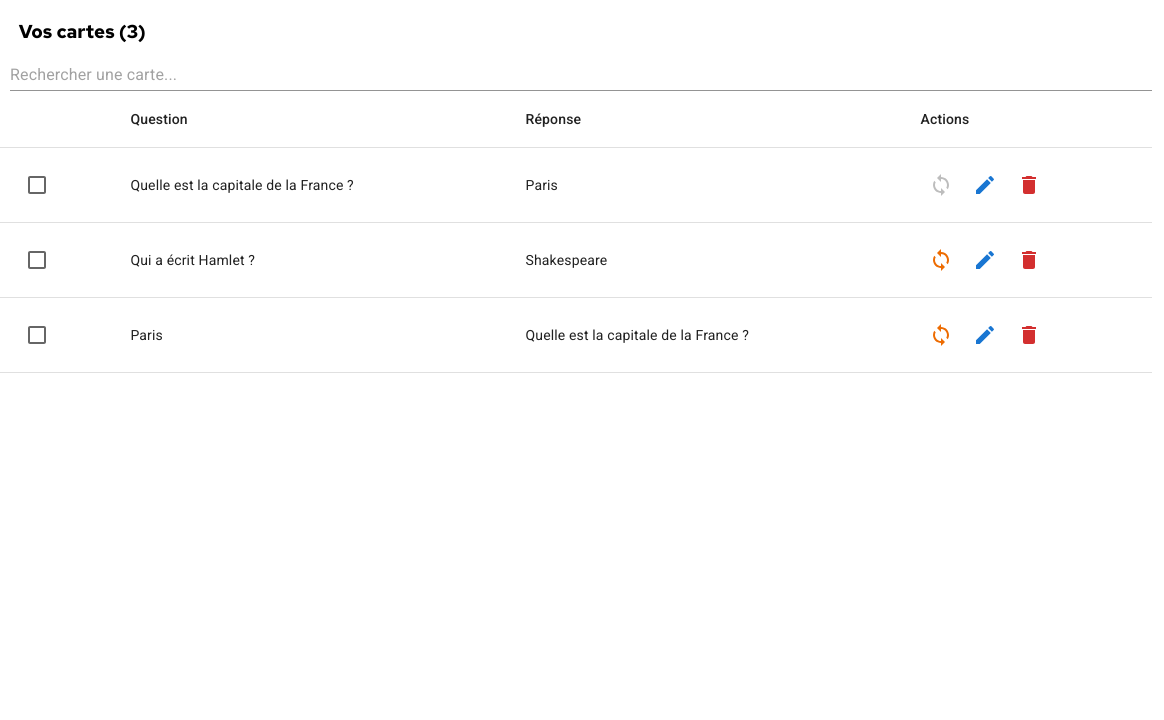
UserCards › Card Selection › should show delete selected button when cards are selected
Click the 1st checkbox at (37, 185), box [25,173,49,197]
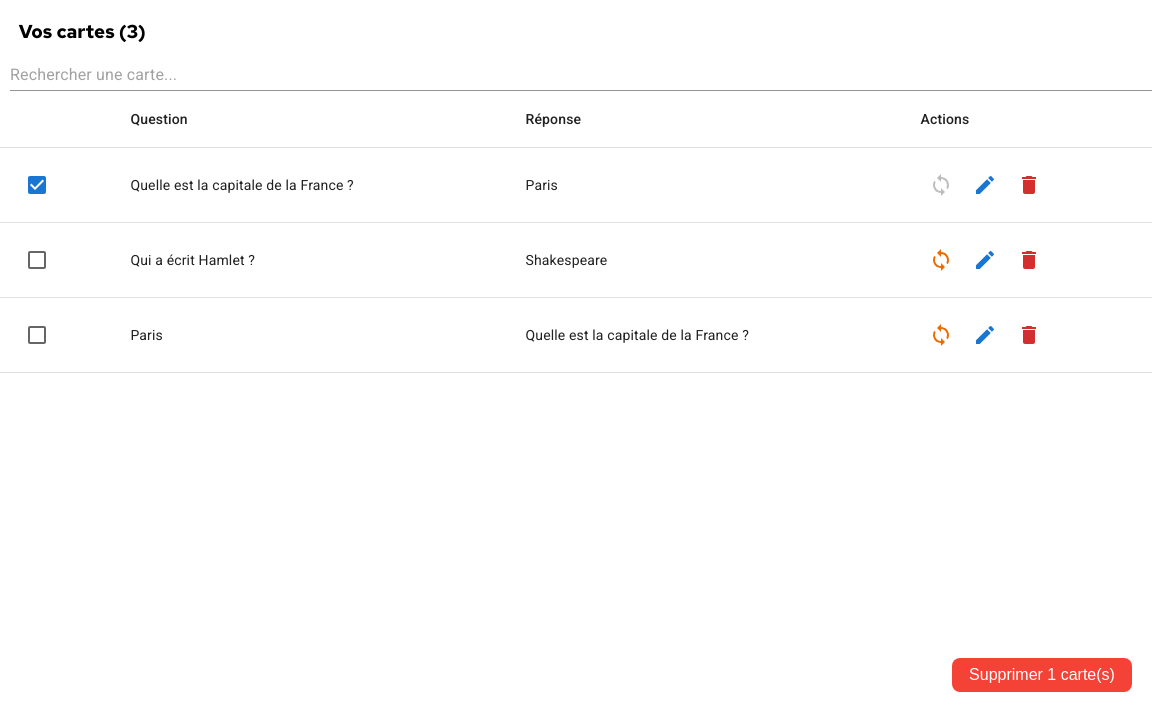
Result: the button "Supprimer 1 carte(s)" is shown at [952,658,1132,692]
